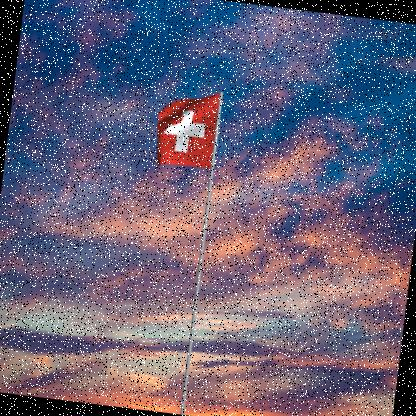ch: (152, 87, 221, 175)
